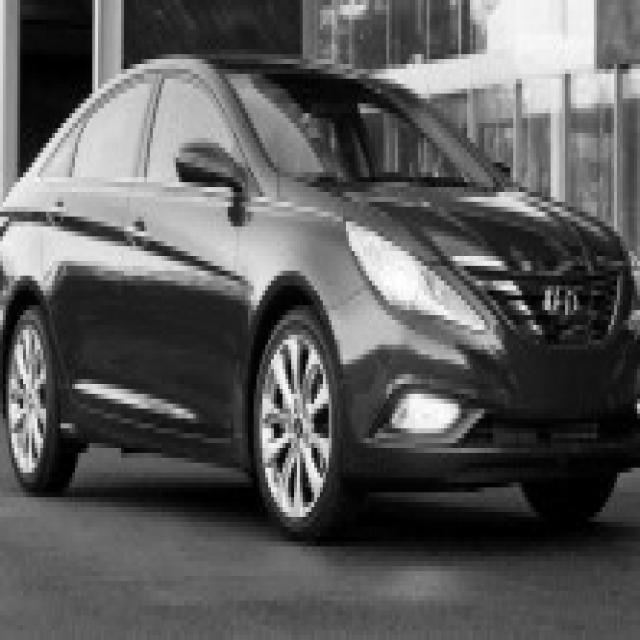car: (0, 49, 637, 542)
